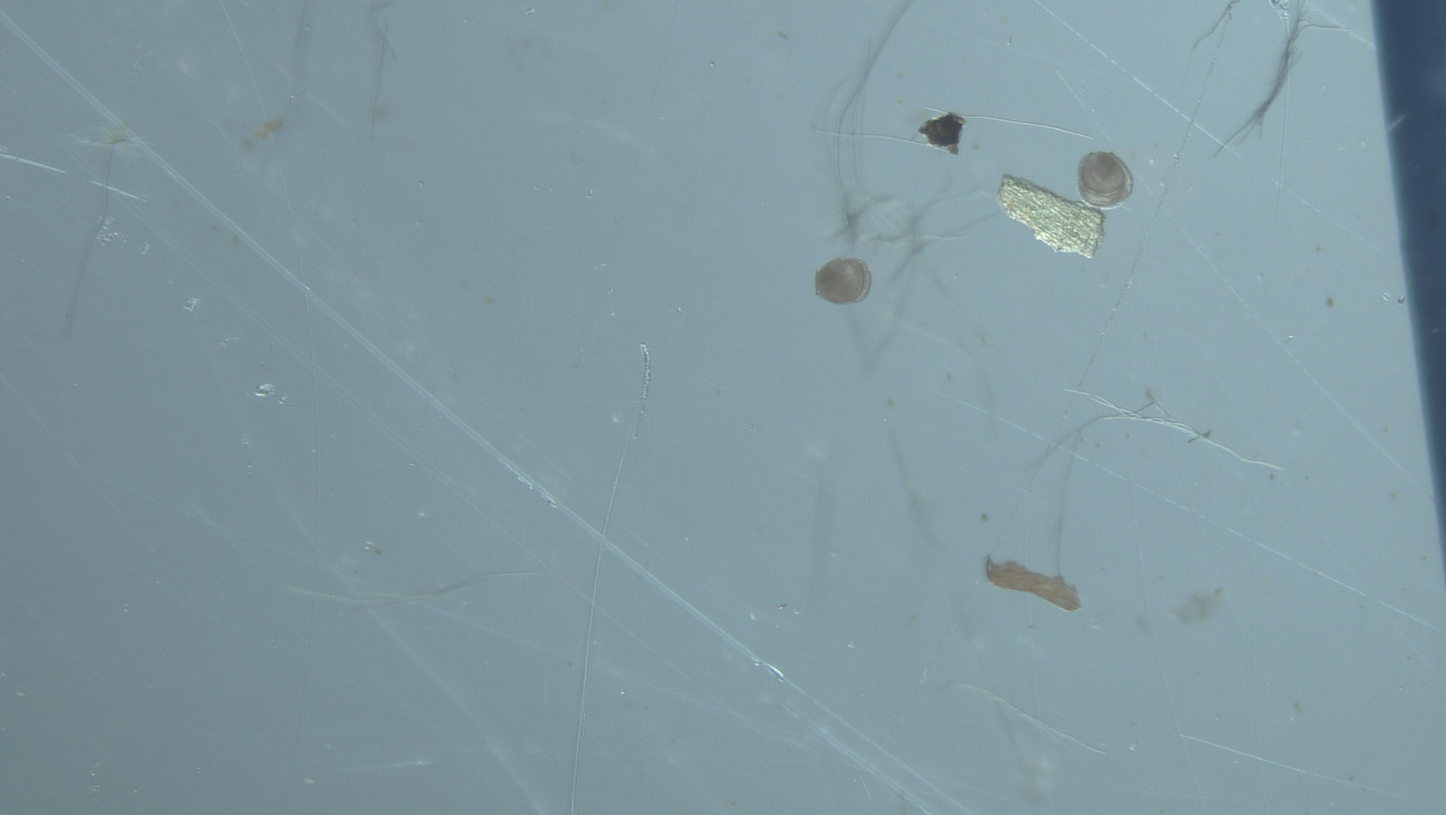live: (1077, 151, 1133, 209), (816, 258, 871, 304)
